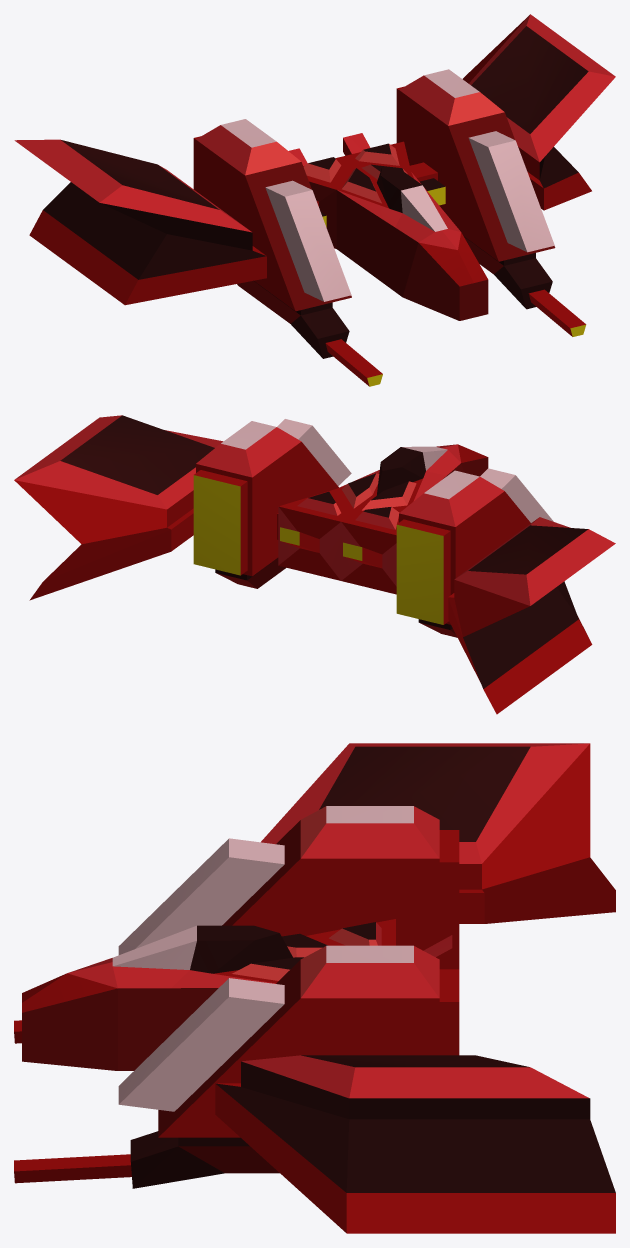
The model's file is shipconcept_vp.fbx.
3 renders of one model, top to bottom at view 1: azimuth 30°, elevation 25°; view 2: azimuth 150°, elevation 25°; view 3: azimuth 270°, elevation 25°, orthographic. The views are drawn at different scales.
Visible parts, largest first — view 1: Cube; view 2: Cube; view 3: Cube.
Part boxes in pixels (x1,y1,x2,y2): Cube: (14,14,615,386); Cube: (14,415,615,714); Cube: (14,743,615,1233).
Bounding box in the file's own units: 1117 × 334 × 800.
